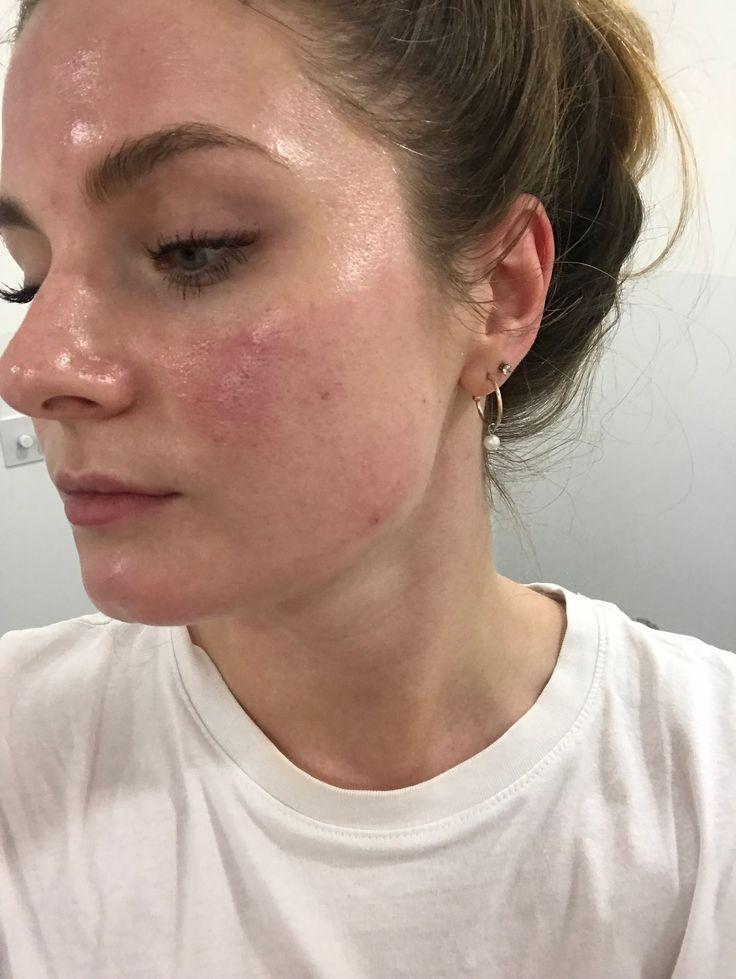Oily-Skin: (150, 300, 415, 498), (0, 32, 265, 132), (8, 238, 102, 402), (82, 532, 210, 610)
